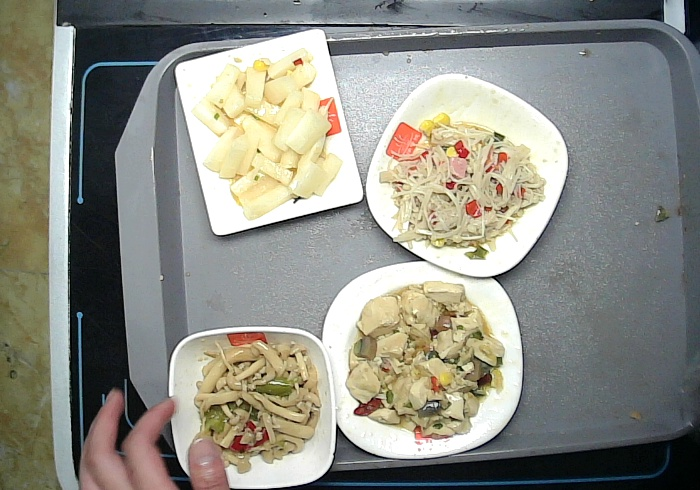SHKJ-Bai_Se_Cai_Die: (363, 74, 568, 279)
SHKJ-Bai_Se_Si_Fang_Cai_Die: (322, 260, 524, 461)
SHKJ-Bai_Se_Xiao_Fang_Die: (167, 326, 338, 488)
SHKJ-Si_Fang_Min: (174, 27, 364, 239)
